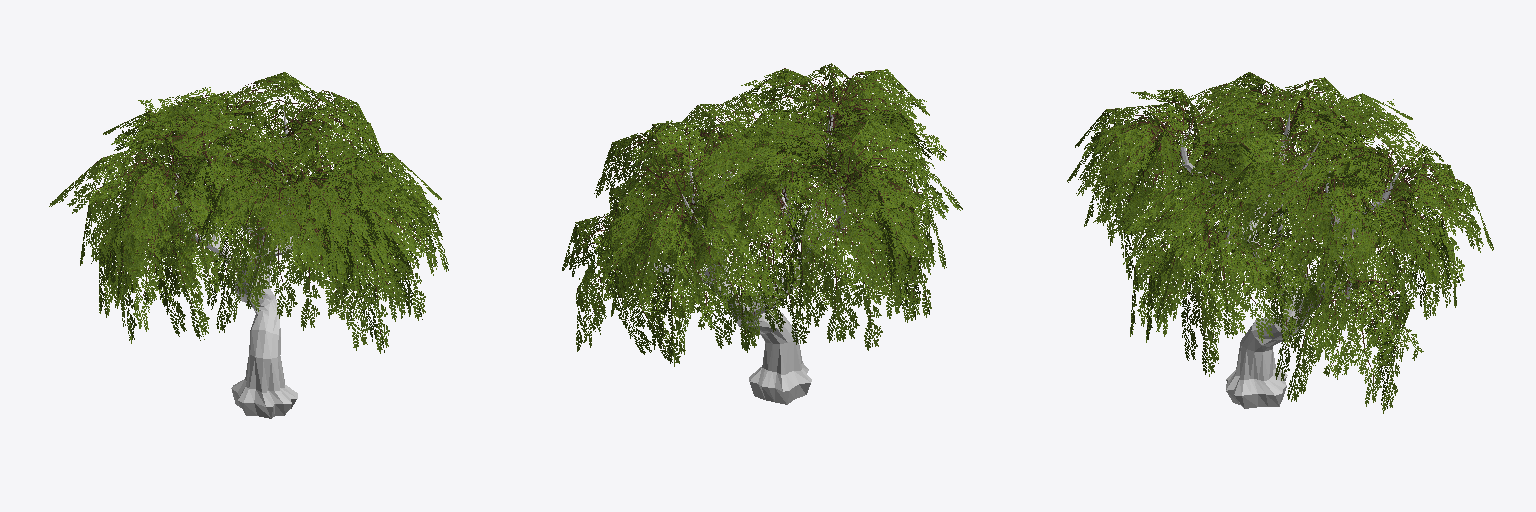
The picture shows the model from 3 angles: view 1: azimuth 30°, elevation 25°; view 2: azimuth 150°, elevation 25°; view 3: azimuth 270°, elevation 25°; orthographic projection.
Visible parts, largest first — view 1: treebrown2_leaves.001, treebrown_002; view 2: treebrown2_leaves.001, treebrown_002; view 3: treebrown2_leaves.001, treebrown_002.
Part boxes in pixels (bbox=[...]): treebrown2_leaves.001: bbox=[49, 72, 448, 353]; treebrown_002: bbox=[173, 106, 298, 418]; treebrown2_leaves.001: bbox=[562, 63, 962, 366]; treebrown_002: bbox=[649, 107, 845, 404]; treebrown2_leaves.001: bbox=[1067, 72, 1493, 413]; treebrown_002: bbox=[1180, 114, 1402, 408].
Bounding box in the file's own units: 11.61 × 9.01 × 12.23.
Materials: 2 (1 with a texture image).